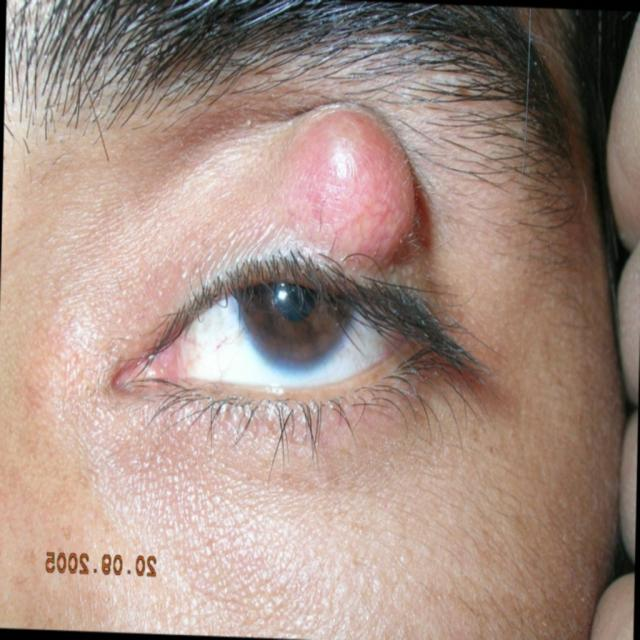Chalazion: (105, 56, 453, 496)
